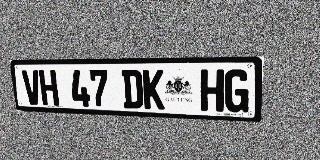4: (69, 70, 91, 107)
7: (88, 70, 110, 108)
D: (121, 70, 143, 109)
G: (224, 69, 250, 113)
H: (200, 70, 224, 112), (38, 70, 59, 106)
K: (142, 70, 165, 110)
V: (22, 70, 42, 105)
